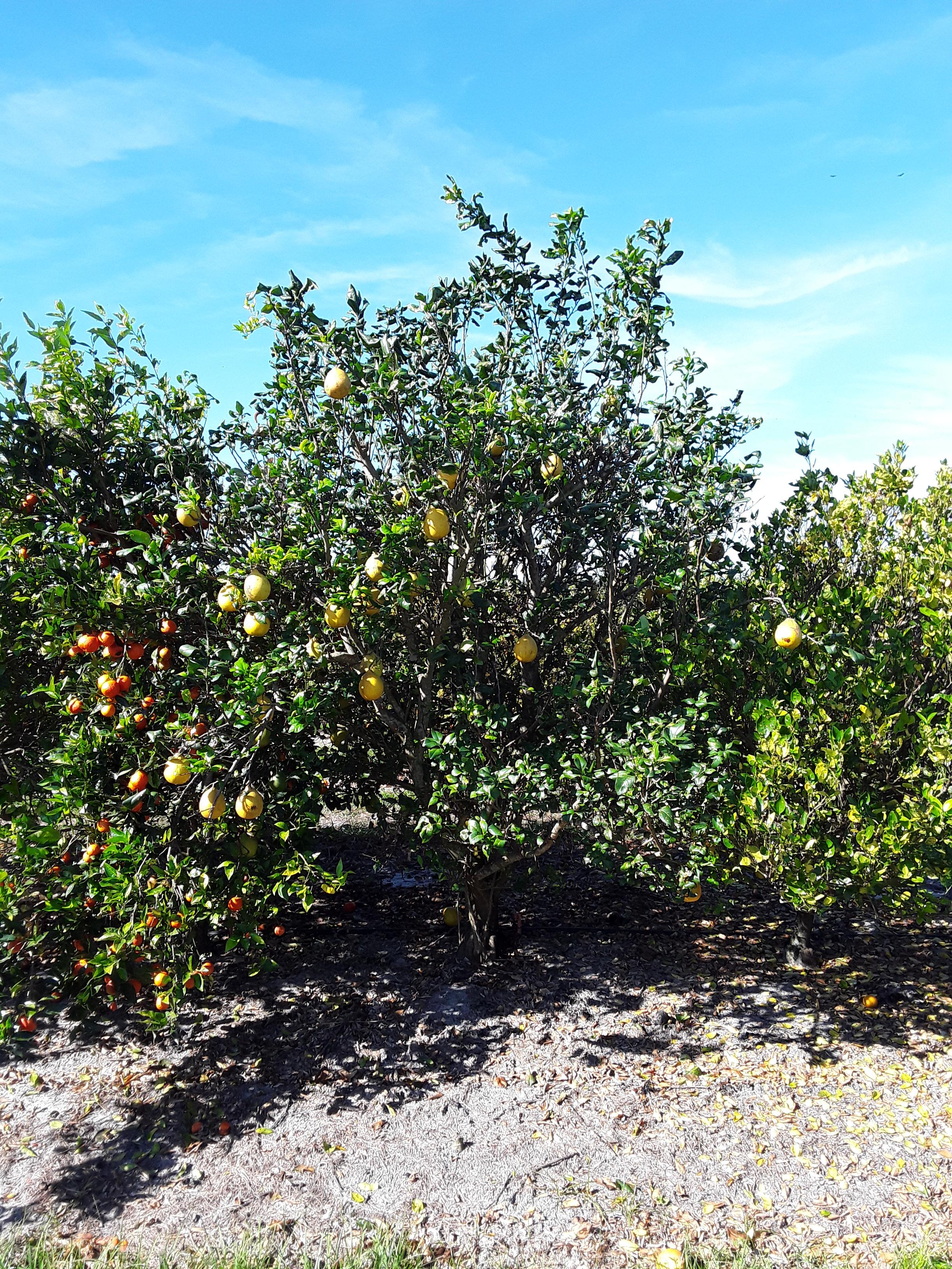fruit_on_ground: (770, 616, 805, 652), (420, 505, 452, 542), (363, 549, 395, 584), (321, 366, 353, 400), (196, 786, 227, 821), (536, 449, 566, 483), (398, 566, 429, 598), (357, 584, 387, 617), (235, 787, 265, 820), (215, 581, 246, 612), (173, 500, 206, 529), (357, 668, 385, 702), (243, 572, 273, 602), (511, 632, 540, 663), (322, 599, 351, 629), (248, 694, 276, 725), (241, 610, 271, 638), (228, 835, 259, 862), (434, 461, 462, 490), (453, 576, 479, 607), (162, 757, 191, 784), (358, 649, 384, 678), (597, 392, 623, 418), (388, 485, 414, 510), (678, 879, 703, 905), (484, 432, 509, 457), (703, 537, 727, 562), (251, 725, 275, 748), (77, 630, 100, 654), (126, 769, 149, 792), (15, 1011, 38, 1033), (327, 725, 350, 746), (4, 935, 26, 956), (180, 971, 202, 992), (142, 510, 165, 530), (146, 793, 168, 813), (72, 510, 95, 529), (71, 958, 94, 977), (268, 772, 289, 792), (95, 627, 116, 647), (153, 653, 175, 672), (66, 696, 86, 716), (196, 959, 217, 978), (640, 587, 659, 608), (362, 794, 383, 813), (194, 627, 213, 648), (125, 639, 144, 660), (151, 969, 170, 989), (131, 711, 150, 731), (95, 673, 115, 692), (184, 682, 203, 701), (102, 680, 121, 699), (155, 645, 174, 664), (114, 672, 134, 690), (243, 927, 264, 944), (0, 876, 18, 895), (93, 551, 111, 570), (127, 796, 145, 815), (94, 816, 113, 834), (226, 894, 245, 912), (124, 977, 143, 995), (190, 719, 208, 737), (102, 645, 120, 663), (422, 362, 441, 379), (153, 993, 172, 1010), (14, 544, 31, 562), (63, 643, 82, 659), (107, 642, 126, 658), (98, 702, 117, 718), (143, 909, 159, 927), (182, 723, 199, 739), (168, 913, 185, 929), (70, 937, 87, 953), (164, 708, 180, 724), (85, 841, 101, 857), (146, 656, 163, 671), (141, 693, 158, 708), (18, 500, 35, 515), (46, 862, 62, 877), (183, 889, 198, 904), (82, 894, 97, 909), (271, 922, 286, 937), (60, 849, 74, 865), (81, 850, 96, 864), (24, 491, 38, 506), (110, 940, 124, 954), (130, 932, 144, 946), (144, 875, 158, 889), (256, 920, 270, 932)
fruit_on_tree: (651, 1246, 688, 1269), (441, 905, 464, 927), (859, 992, 880, 1010), (217, 1118, 233, 1138), (187, 1117, 203, 1136), (341, 898, 357, 912), (606, 911, 622, 923), (49, 990, 62, 1003)
